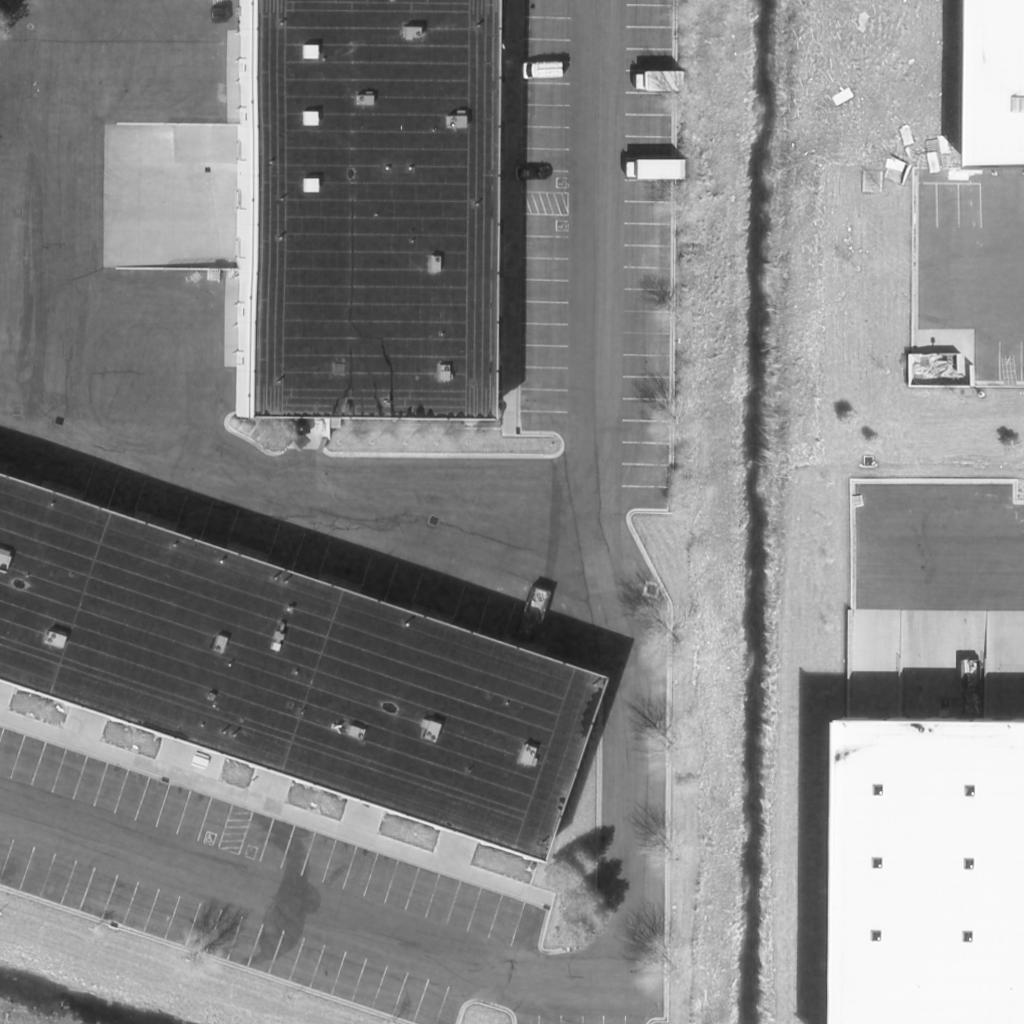vehicle: (623, 159, 687, 181), (636, 71, 686, 91), (522, 61, 564, 79), (515, 165, 555, 179)
